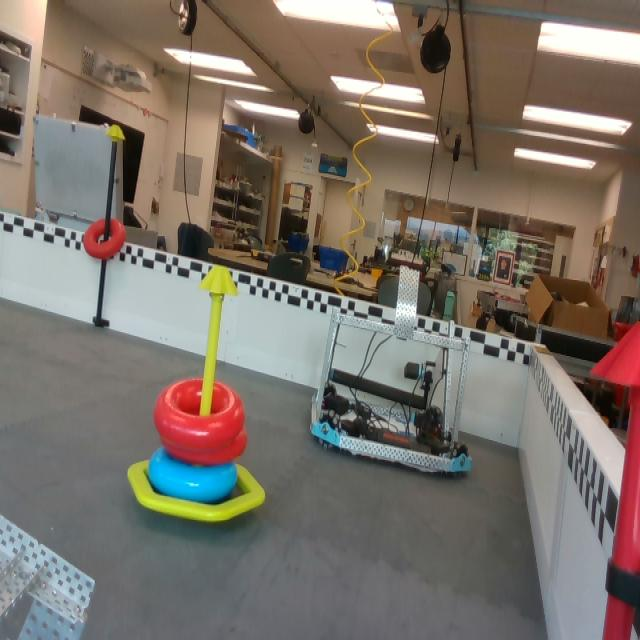Blue-Ring: (148, 447, 237, 496)
Mobile-Goal: (127, 265, 265, 524)
Red-Ring: (154, 379, 238, 447), (159, 426, 247, 470), (82, 217, 126, 260)
Yellow-Stake-Head: (198, 265, 240, 297), (106, 125, 126, 140)
zred-Stake-Head: (590, 321, 640, 385)
